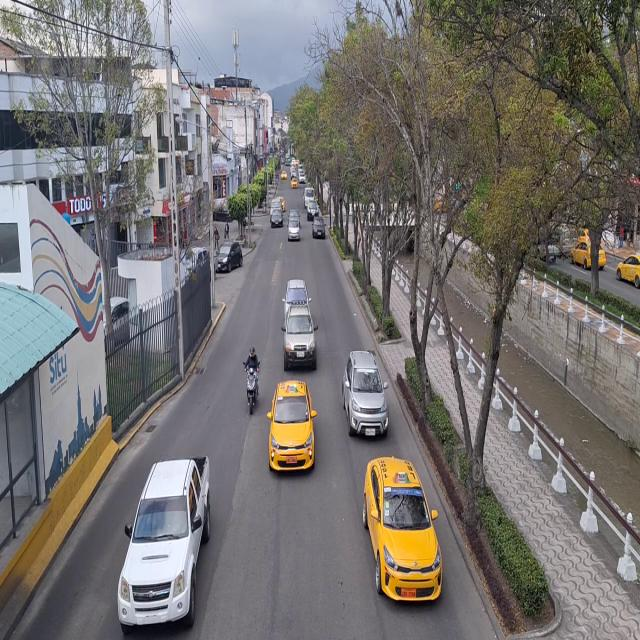CMT: (121, 448, 214, 626)
MOTORCYCLE: (245, 366, 259, 417)
SED: (357, 456, 445, 611), (265, 379, 319, 476)
SUV: (338, 347, 393, 446), (282, 302, 318, 367)
